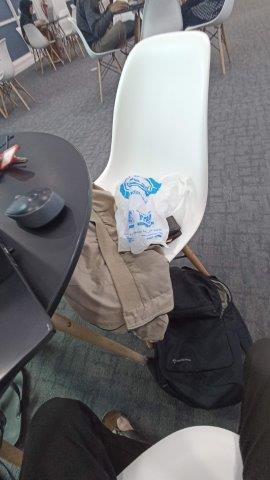plastik: (114, 174, 189, 254)
